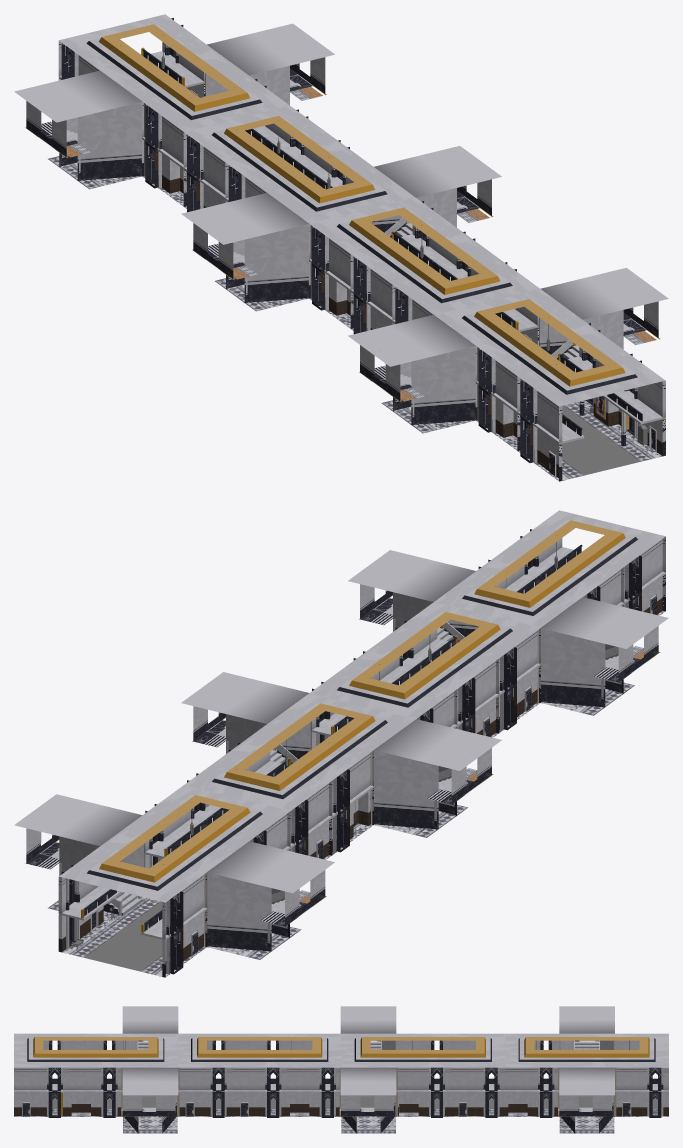
The model's file is AdrienMansion_Boss.fbx.
3 views of the same model, one above another, from view 1: azimuth 30°, elevation 25°; view 2: azimuth 150°, elevation 25°; view 3: azimuth 270°, elevation 25° (orthographic). The views are drawn at different scales.
Visible parts, largest first — view 1: AdrienMansion_Lobby_01, AdrienMansion_Lobby_02; view 2: AdrienMansion_Lobby_01, AdrienMansion_Lobby_02; view 3: AdrienMansion_Lobby_01, AdrienMansion_Lobby_02.
Boxes of the visible parts, box(x1,y1,x2,y2) form: AdrienMansion_Lobby_01: box(14, 14, 501, 311); AdrienMansion_Lobby_02: box(309, 197, 668, 481); AdrienMansion_Lobby_01: box(14, 672, 501, 977); AdrienMansion_Lobby_02: box(309, 510, 668, 749); AdrienMansion_Lobby_01: box(339, 1006, 668, 1133); AdrienMansion_Lobby_02: box(14, 1006, 341, 1133).
Bounding box in the file's own units: 19311 × 5610 × 60000.
